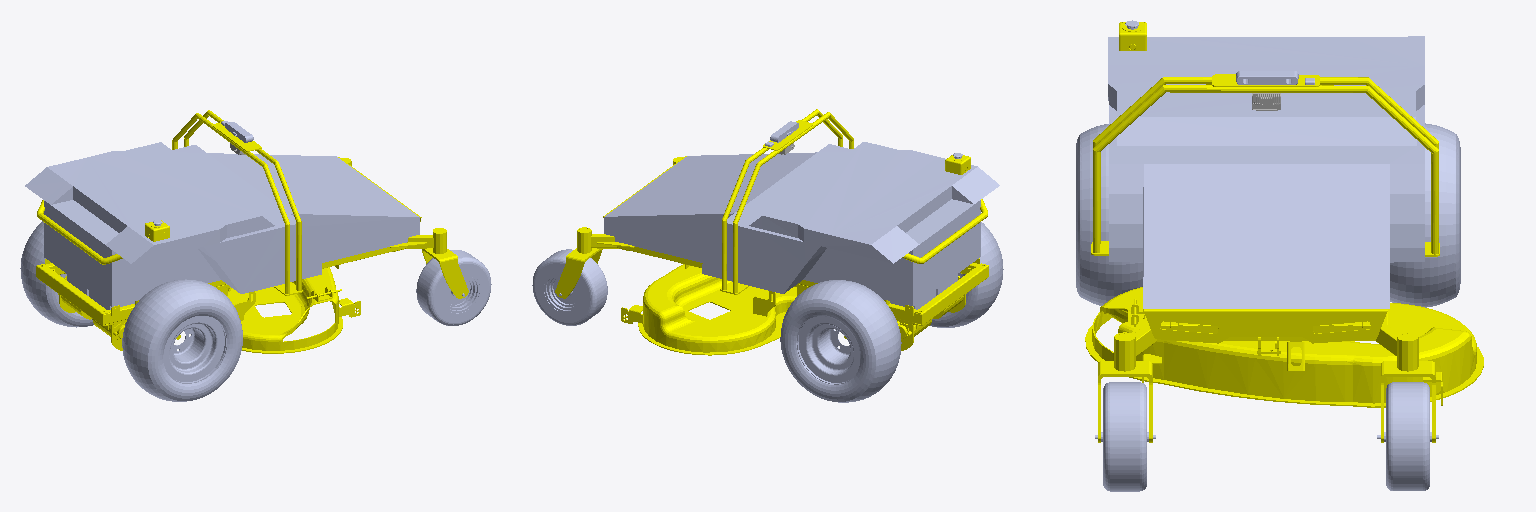
--- Render facts (derived) ---
3 views of the same robot in one strip: view 1: azimuth 30°, elevation 25°; view 2: azimuth 150°, elevation 25°; view 3: azimuth 270°, elevation 25° (orthographic).
Robot: engix — 24 links, 23 joints (7 continuous, 16 fixed); root link base_link; default pose: all joints at 0.
Links seen in each view (by area): view 1: cover, rwheel, base_link, deck, caster_wheel_right, lwheel, caster_right; view 2: cover, lwheel, deck, base_link, caster_wheel_left, rwheel, caster_left; view 3: cover, deck, base_link, lwheel, rwheel, caster_wheel_right, caster_wheel_left, caster_right, caster_left, zed.
Link boxes in pixels (left/top/right/bottom): cover: left=25, top=142, right=419, bottom=306; rwheel: left=122, top=279, right=242, bottom=401; base_link: left=36, top=110, right=446, bottom=350; deck: left=227, top=267, right=360, bottom=353; caster_wheel_right: left=416, top=250, right=491, bottom=325; lwheel: left=20, top=221, right=93, bottom=327; caster_right: left=422, top=229, right=468, bottom=298; cover: left=604, top=142, right=999, bottom=305; lwheel: left=780, top=280, right=901, bottom=402; deck: left=621, top=264, right=796, bottom=355; base_link: left=577, top=109, right=988, bottom=350; caster_wheel_left: left=532, top=249, right=607, bottom=325; rwheel: left=930, top=222, right=1003, bottom=327; caster_left: left=555, top=228, right=602, bottom=298; cover: left=1108, top=36, right=1424, bottom=308; deck: left=1085, top=287, right=1483, bottom=407; base_link: left=1091, top=22, right=1439, bottom=371; lwheel: left=1390, top=123, right=1460, bottom=307; rwheel: left=1076, top=124, right=1142, bottom=305; caster_wheel_right: left=1095, top=382, right=1155, bottom=491; caster_wheel_left: left=1377, top=382, right=1438, bottom=490; caster_right: left=1098, top=334, right=1152, bottom=442; caster_left: left=1381, top=334, right=1435, bottom=442; zed: left=1236, top=71, right=1298, bottom=84.
Size in the robot's own frame: 1.76 by 1.14 by 0.9351 metres.
14 mesh visuals loaded from 14 distinct referenced files (14 binary STL).

robot.urdf — engix:
<?xml version="1.0" encoding="utf-8"?>
<!-- This URDF was automatically created by SolidWorks to URDF Exporter! Originally created by Stephen Brawner ([email redacted]) 
     Commit Version: 1.6.0-4-g7f85cfe  Build Version: 1.6.7995.38578
     For more information, please see http://wiki.ros.org/sw_urdf_exporter -->
<robot
  name="engix">

  <transmission name="left_wheel_tran">
    <type>transmission_interface/SimpleTransmission</type>
    <joint name="left_wheel_joint">
      <hardwareInterface>hardware_interface/VelocityJointInterface</hardwareInterface>
    </joint>
    <actuator name="left_wheel_actr">
      <hardwareInterface>hardware_interface/VelocityJointInterface</hardwareInterface>
      <mechanicalReduction>1</mechanicalReduction>
    </actuator>
  </transmission>
  <transmission name="right_wheel_tran">
    <type>transmission_interface/SimpleTransmission</type>
    <joint name="right_wheel_joint">
      <hardwareInterface>hardware_interface/VelocityJointInterface</hardwareInterface>
    </joint>
    <actuator name="right_wheel_actr">
      <hardwareInterface>hardware_interface/VelocityJointInterface</hardwareInterface>
      <mechanicalReduction>1</mechanicalReduction>
    </actuator>
  </transmission>
  <gazebo>
    <plugin name="differential_drive_controller" filename="libgazebo_ros_diff_drive.so">
      <robotNamespace>/</robotNamespace>
      <legacyMode>true</legacyMode>
      <alwaysOn>true</alwaysOn>
      <publishWheelTF>false</publishWheelTF>
      <publishTf>1</publishTf>
      <publishOdomTF>true</publishOdomTF>
      <publishWheelJointState>true</publishWheelJointState>
      <updateRate>100.0</updateRate>
      <leftJoint>left_wheel_joint</leftJoint>
      <rightJoint>right_wheel_joint</rightJoint>
      <wheelSeparation>1.2</wheelSeparation>
      <wheelDiameter>0.42</wheelDiameter>
      <wheelAcceleration>1.0</wheelAcceleration>
      <wheelTorque>10</wheelTorque>
      <commandTopic>cmd_vel</commandTopic>
      <odometryTopic>odom</odometryTopic>
      <odometryFrame>odom</odometryFrame>
      <robotBaseFrame>base_link</robotBaseFrame>
      <odometrySource>world</odometrySource>
      <rosDebugLevel>na</rosDebugLevel>
    </plugin>
  </gazebo>


  <gazebo>
    <plugin name="p3d_base_controller" filename="libgazebo_ros_p3d.so">
      <alwaysOn>true</alwaysOn>
      <updateRate>50.0</updateRate>
      <bodyName>base_link</bodyName>
      <topicName>ground_truth/state</topicName>
      <gaussianNoise>0.01</gaussianNoise>
      <frameName>world</frameName>
      <xyzOffsets>0 0 0</xyzOffsets>
      <rpyOffsets>0 0 0</rpyOffsets>
    </plugin>
  </gazebo>

  <gazebo reference="laser">
    <sensor name="laser" type="ray" >
      <pose>0 0 0 0 0 0</pose>
      <visualize>false</visualize>
      <update_rate>20</update_rate>
      <ray>
        <scan>
          <horizontal>
            <samples>320</samples>
            <resolution>1</resolution>
            <min_angle>-0.66</min_angle>
            <max_angle>0.66</max_angle>
          </horizontal>
          <vertical>
            <samples>24</samples>
            <resolution>1</resolution>
            <min_angle>-0.045</min_angle>
            <max_angle>0.045</max_angle>
          </vertical>
        </scan>
        <range>
          <min>0.1</min>
          <max>4.0</max>
          <resolution>0.01</resolution>
        </range>
        <noise>
          <type>gaussian</type>
          <mean>0.0</mean>
          <stddev>0.01</stddev>
        </noise>
      </ray>
      <plugin name="gazebo_ros_laser_controller" filename="libgazebo_ros_velodyne_laser.so">
        <robotNamespace>/</robotNamespace>
        <topicName>ce30c_output</topicName>
        <frameName>ce30c_lidar</frameName>
      </plugin>
    </sensor>
  </gazebo>
  <gazebo reference="imu_link">
    <plugin filename="libgazebo_ros_imu.so" name="gazebo_imu_plugin">
      <robotNamespace>/</robotNamespace>
      <topicName>imu/data</topicName>
      <serviceName>imu_service</serviceName>
      <bodyName>base_link</bodyName>
      <gaussianNoise>0</gaussianNoise>
      <rpyOffsets>0 0 0</rpyOffsets>
      <updateRate>20.0</updateRate>
      <alwaysOn>true</alwaysOn>
    </plugin>
  </gazebo>
  <gazebo>
    <plugin filename="libhector_gazebo_ros_gps.so" name="gps_controller">
      <robotNamespace>/</robotNamespace>
      <updateRate>40</updateRate>
      <bodyName>base_link</bodyName>
      <frameId>base_link</frameId>
      <topicName>navsat/fix</topicName>
      <velocityTopicName>navsat/vel</velocityTopicName>
      <referenceLatitude>49.9</referenceLatitude>
      <referenceLongitude>8.9</referenceLongitude>
      <referenceHeading>0</referenceHeading>
      <referenceAltitude>0</referenceAltitude>
      <drift>0.0001 0.0001 0.0001</drift>
    </plugin>
  </gazebo>
  <gazebo reference="ultrasound_center">
    <sensor type="ray" name="ultrasound_center">
      <always_on>true</always_on>
      <update_rate>20</update_rate>
      <pose>0 0 0 0 0 0</pose>
      <visualize>true</visualize>
      <ray>
        <scan>
          <horizontal>
            <samples>10</samples>
            <resolution>1</resolution>
            <min_angle>-0.14835</min_angle>
            <max_angle>0.14835</max_angle>
          </horizontal>
          <vertical>
            <samples>10</samples>
            <resolution>1</resolution>
            <min_angle>-0.14835</min_angle>
            <max_angle>0.14835</max_angle>
          </vertical>
        </scan>
        <range>
          <min>0.02</min>
          <max>3</max>
          <resolution>0.02</resolution>
        </range>
      </ray>

      <plugin name="gazebo_ros_sonar_controller" filename="libhector_gazebo_ros_sonar.so">
        <gaussianNoise>0.005</gaussianNoise>
        <topicName>ultrasound_center</topicName>
        <frameId>ultrasound_center</frameId>
      </plugin>
    </sensor>
  </gazebo>


  <gazebo reference="ultrasound_left_top">
    <sensor type="ray" name="ultrasound_left_top">
      <always_on>true</always_on>
      <update_rate>20</update_rate>
      <pose>0 0 0 0 0 0</pose>
      <visualize>true</visualize>
      <ray>
        <scan>
          <horizontal>
            <samples>10</samples>
            <resolution>1</resolution>
            <min_angle>-0.14835</min_angle>
            <max_angle>0.14835</max_angle>
          </horizontal>
          <vertical>
            <samples>10</samples>
            <resolution>1</resolution>
            <min_angle>-0.14835</min_angle>
            <max_angle>0.14835</max_angle>
          </vertical>
        </scan>
        <range>
          <min>0.02</min>
          <max>3</max>
          <resolution>0.02</resolution>
        </range>
      </ray>

      <plugin name="gazebo_ros_sonar_controller" filename="libhector_gazebo_ros_sonar.so">
        <gaussianNoise>0.005</gaussianNoise>
        <topicName>ultrasound_left_top</topicName>
        <frameId>ultrasound_left_top</frameId>
      </plugin>
    </sensor>
  </gazebo>
  <gazebo reference="ultrasound_right_top">
    <sensor type="ray" name="ultrasound_right_top">
      <always_on>true</always_on>
      <update_rate>20</update_rate>
      <pose>0 0 0 0 0 0</pose>
      <visualize>true</visualize>
      <ray>
        <scan>
          <horizontal>
            <samples>10</samples>
            <resolution>1</resolution>
            <min_angle>-0.14835</min_angle>
            <max_angle>0.14835</max_angle>
          </horizontal>
          <vertical>
            <samples>10</samples>
            <resolution>1</resolution>
            <min_angle>-0.14835</min_angle>
            <max_angle>0.14835</max_angle>
          </vertical>
        </scan>
        <range>
          <min>0.02</min>
          <max>3</max>
          <resolution>0.02</resolution>
        </range>
      </ray>

      <plugin name="gazebo_ros_sonar_controller" filename="libhector_gazebo_ros_sonar.so">
        <gaussianNoise>0.005</gaussianNoise>
        <topicName>ultrasound_right_top</topicName>
        <frameId>ultrasound_right_top</frameId>
      </plugin>
    </sensor>
  </gazebo>

  <gazebo reference="ultrasound_left_back">
    <sensor type="ray" name="ultrasound_left_back">
      <always_on>true</always_on>
      <update_rate>20</update_rate>
      <pose>0 0 0 0 0 0</pose>
      <visualize>true</visualize>
      <ray>
        <scan>
          <horizontal>
            <samples>10</samples>
            <resolution>1</resolution>
            <min_angle>-0.14835</min_angle>
            <max_angle>0.14835</max_angle>
          </horizontal>
          <vertical>
            <samples>10</samples>
            <resolution>1</resolution>
            <min_angle>-0.14835</min_angle>
            <max_angle>0.14835</max_angle>
          </vertical>
        </scan>
        <range>
          <min>0.02</min>
          <max>3</max>
          <resolution>0.02</resolution>
        </range>
      </ray>

      <plugin name="gazebo_ros_sonar_controller" filename="libhector_gazebo_ros_sonar.so">
        <gaussianNoise>0.005</gaussianNoise>
        <topicName>ultrasound_left_back</topicName>
        <frameId>ultrasound_left_back</frameId>
      </plugin>
    </sensor>
  </gazebo>
  <gazebo reference="ultrasound_right_back">
    <sensor type="ray" name="ultrasound_right_back">
      <always_on>true</always_on>
      <update_rate>20</update_rate>
      <pose>0 0 0 0 0 0</pose>
      <visualize>true</visualize>
      <ray>
        <scan>
          <horizontal>
            <samples>10</samples>
            <resolution>1</resolution>
            <min_angle>-0.14835</min_angle>
            <max_angle>0.14835</max_angle>
          </horizontal>
          <vertical>
            <samples>10</samples>
            <resolution>1</resolution>
            <min_angle>-0.14835</min_angle>
            <max_angle>0.14835</max_angle>
          </vertical>
        </scan>
        <range>
          <min>0.02</min>
          <max>3</max>
          <resolution>0.02</resolution>
        </range>
      </ray>

      <plugin name="gazebo_ros_sonar_controller" filename="libhector_gazebo_ros_sonar.so">
        <gaussianNoise>0.005</gaussianNoise>
        <topicName>ultrasound_right_back</topicName>
        <frameId>ultrasound_right_back</frameId>
      </plugin>
    </sensor>
  </gazebo>

  <gazebo reference="ultrasound_left_back_back">
    <sensor type="ray" name="ultrasound_left_back_back">
      <always_on>true</always_on>
      <update_rate>20</update_rate>
      <pose>0 0 0 0 0 0</pose>
      <visualize>true</visualize>
      <ray>
        <scan>
          <horizontal>
            <samples>10</samples>
            <resolution>1</resolution>
            <min_angle>-0.14835</min_angle>
            <max_angle>0.14835</max_angle>
          </horizontal>
          <vertical>
            <samples>10</samples>
            <resolution>1</resolution>
            <min_angle>-0.14835</min_angle>
            <max_angle>0.14835</max_angle>
          </vertical>
        </scan>
        <range>
          <min>0.02</min>
          <max>3</max>
          <resolution>0.02</resolution>
        </range>
      </ray>

      <plugin name="gazebo_ros_sonar_controller" filename="libhector_gazebo_ros_sonar.so">
        <gaussianNoise>0.005</gaussianNoise>
        <topicName>ultrasound_left_back_back</topicName>
        <frameId>ultrasound_left_back_back</frameId>
      </plugin>
    </sensor>
  </gazebo>

  <gazebo reference="ultrasound_right_back_back">
    <sensor type="ray" name="ultrasound_right_back_back">
      <always_on>true</always_on>
      <update_rate>20</update_rate>
      <pose>0 0 0 0 0 0</pose>
      <visualize>true</visualize>
      <ray>
        <scan>
          <horizontal>
            <samples>10</samples>
            <resolution>1</resolution>
            <min_angle>-0.14835</min_angle>
            <max_angle>0.14835</max_angle>
          </horizontal>
          <vertical>
            <samples>10</samples>
            <resolution>1</resolution>
            <min_angle>-0.14835</min_angle>
            <max_angle>0.14835</max_angle>
          </vertical>
        </scan>
        <range>
          <min>0.02</min>
          <max>3</max>
          <resolution>0.02</resolution>
        </range>
      </ray>

      <plugin name="gazebo_ros_sonar_controller" filename="libhector_gazebo_ros_sonar.so">
        <gaussianNoise>0.005</gaussianNoise>
        <topicName>ultrasound_right_back_back</topicName>
        <frameId>ultrasound_right_back_back</frameId>
      </plugin>
    </sensor>
  </gazebo>

  <!-- <link name="base_footprint"/>
  <joint name="base_footprint_joint" type="fixed">
    <origin rpy="0 0 0" xyz="0 0 0"/>
    <parent link="base_link"/>
    <child link="base_footprint"/>
  </joint> -->
  <link name="inertial_link">
    <inertial>
      <mass value="10"/>
      <origin xyz="0.0005263550102558459 -0.0008435206011111315 0.2088531479687758"/>
      <inertia ixx="0.298693" ixy="0.003154" ixz="-0.020052" iyy="0.45471" iyz="0.003425" izz="0.326894"/>
    </inertial>
  </link>
  <joint name="inertial_joint" type="fixed">
    <origin rpy="0 0 0" xyz="0 0 0"/>
    <parent link="base_link"/>
    <child link="inertial_link"/>
  </joint>

  <link name="base_link">
    <!-- <inertial>
      <origin
        xyz="0,[number redacted] 0.00526150593338467 0.0527030720786924"
        rpy="0 0 0" />
      <mass
        value="13.9193807318929" />
      <inertia
        ixx="0.283104751456096"
        ixy="-9.17169868644118E-05"
        ixz="-0.0303686361911287"
        iyy="0.694211916770157"
        iyz="5.31670879227359E-05"
        izz="0.933125038601792" />
    </inertial> -->
    <visual>
      <origin
        xyz="-0.162028179738504 -0.00526150593338467 0.019"
        rpy="0 0 3.1416" />
      <geometry>
        <mesh
          filename="package://engix_description/meshes/base_link.STL" />
      </geometry>
      <material
        name="">
        <color
          rgba="1 1 0 1" />
      </material>
    </visual>
    <collision>
      <origin
        xyz="0 0 0"
        rpy="0 0 0" />
      <geometry>
        <mesh
          filename="package://engix_description/meshes/base_link.STL" />
      </geometry>
    </collision>
  </link>
  <link name="lwheel">
    <inertial>
      <mass value="4.637" />
      <origin xyz="0 0 0" />
      <inertia  ixx="0.02467" ixy="0" ixz="0" iyy="0.04411" iyz="0" izz="0.02467" />
    </inertial>
    <visual>
      <origin
        xyz="0 0 0"
        rpy="0 0 0" />
      <geometry>
        <mesh
          filename="package://engix_description/meshes/lwheel.STL" />
      </geometry>
      <material
        name="">
        <color
          rgba="0.792156862745098 0.819607843137255 0.933333333333333 1" />
      </material>
    </visual>
    <collision>
      <origin
        xyz="0 0 0"
        rpy="0 0 0" />
      <geometry>
        <mesh
          filename="package://engix_description/meshes/lwheel.STL" />
      </geometry>
    </collision>
  </link>
  <joint name="left_wheel_joint" type="continuous">
    <origin
      xyz="-0.59511 0.42022 -0.11179"
      rpy="0 0 0" />
    <parent
      link="base_link" />
    <child
      link="lwheel" />
    <axis
      xyz="0 1 -1.3832E-05" />
  </joint>
    <link name="stop">
    <!-- <inertial>
      <origin
        xyz="8.01438915232211E-11 -7.29305504876265E-12 0.0138238205727138"
        rpy="0 0 0" />
      <mass
        value="0.0281984480696176" />
      <inertia
        ixx="6.72540159939615E-06"
        ixy="3.7259864948733E-11"
        ixz="-2.12799667393466E-14"
        iyy="6.72201404961766E-06"
        iyz="1.93646720152684E-15"
        izz="3.40059228920416E-06" />
    </inertial> -->
    <visual>
      <origin
        xyz="0 0 0"
        rpy="0 0 0" />
      <geometry>
        <mesh
          filename="package://engix_description/meshes/stop.STL" />
      </geometry>
      <material
        name="">
        <color
          rgba="0.792156862745098 0.819607843137255 0.933333333333333 1" />
      </material>
    </visual>
    <collision>
      <origin
        xyz="0 0 0"
        rpy="0 0 0" />
      <geometry>
        <mesh
          filename="package://engix_description/meshes/stop.STL" />
      </geometry>
    </collision>
  </link>
  <joint name="stop_joint"
    type="fixed">
    <origin
      xyz="-0.69 -0.37937 0.40441"
      rpy="0 0 0" />
    <parent
      link="base_link" />
    <child
      link="stop" />
    <axis
      xyz="0 0 0" />
  </joint>
  <link name="cover">
    <!-- <inertial>
      <origin
        xyz="-0.551441504533107 -0.0126564496319977 -0.0946936917411068"
        rpy="0 0 0" />
      <mass
        value="639.55152495748" />
      <inertia
        ixx="121.128020945133"
        ixy="2.23693263942331"
        ixz="-1.57368041967364"
        iyy="43.5974122594775"
        iyz="-0.0340743547938204"
        izz="138.576050287635" />
    </inertial> -->
    <inertial>
      <origin
        xyz="-0.162028179738504 -0.00526150593338467 0.019"
        rpy="0 0 3.1416" />
      <mass
        value="0.1" />
      <inertia
        ixx="0.001"
        ixy="0.001"
        ixz="0.001"
        iyy="0.001"
        iyz="0.001"
        izz="0.001" />
    </inertial>
    <visual>
      <origin
        xyz="-0.162028179738504 -0.00526150593338467 0.019"
        rpy="0 0 3.1416" />
      <geometry>
        <mesh
          filename="package://engix_description/meshes/cover.STL" />
      </geometry>
      <material
        name="">
        <color
          rgba="0.792156862745098 0.819607843137255 0.933333333333333 1" />
      </material>
    </visual>
    <collision>
      <origin
        xyz="0 0 0"
        rpy="0 0 0" />
      <geometry>
        <mesh
          filename="package://engix_description/meshes/cover.STL" />
      </geometry>
    </collision>
  </link>
  <joint
    name="cover_joint"
    type="fixed">
    <origin
      xyz="-0.162 -0.0044742 -0.016717"
      rpy="0 0 3.1416" />
    <parent
      link="base_link" />
    <child
      link="cover" />
    <axis
      xyz="0 0 0" />
  </joint>
  <link name="rwheel">
    <inertial>
    <mass value="4.637" />
    <origin xyz="0 0 0" />
    <inertia  ixx="0.02467" ixy="0" ixz="0" iyy="0.04411" iyz="0" izz="0.02467" />
    </inertial>
    <visual>
      <origin
        xyz="0 0 0"
        rpy="0 0 0" />
      <geometry>
        <mesh
          filename="package://engix_description/meshes/rwheel.STL" />
      </geometry>
      <material
        name="">
        <color
          rgba="0.792156862745098 0.819607843137255 0.933333333333333 1" />
      </material>
    </visual>
    <collision>
      <origin
        xyz="0 0 0"
        rpy="0 0 0" />
      <geometry>
        <mesh
          filename="package://engix_description/meshes/rwheel.STL" />
      </geometry>
    </collision>
  </link>
  <joint name="right_wheel_joint" type="continuous">
    <origin
      xyz="-0.59511 -0.42022 -0.11179"
      rpy="0 0 0" />
    <parent
      link="base_link" />
    <child
      link="rwheel" />
    <axis
      xyz="0 1 -1.3832E-05" />
  </joint>
  
  <link name="axel_center"/>
  <joint name="axel_center_joint" type="continuous">
    <origin
      xyz="-0.59511 0 -0.11179"
      rpy="0 0 0" />
    <parent
      link="base_link" />
    <child
      link="axel_center" />
    <!-- <axis
      xyz="0 1 -1.3832E-05" /> -->
  </joint>

  <link name="caster_left">
    <inertial>
      <origin
        xyz="0.0136666051162592 5.81740895955196E-07 -0.128816257273344"
        rpy="0 0 0" />
      <mass
        value="1.0" />
      <inertia
        ixx="0.00442216870785303"
        ixy="-1.28985529609481E-08"
        ixz="0.000703041039067919"
        iyy="0.00329065457320726"
        iyz="0.10495869480082E-08"
        izz="0.00197684777439707" />
    </inertial>
    <visual>
      <origin
        xyz="0 0 0"
        rpy="0 0 0" />
      <geometry>
        <mesh
          filename="package://engix_description/meshes/caster_left.STL" />
      </geometry>
      <material
        name="">
        <color
          rgba="1 1 0 1" />
      </material>
    </visual>
    <collision>
      <origin
        xyz="0 0 0"
        rpy="0 0 0" />
      <geometry>
        <mesh
          filename="package://engix_description/meshes/caster_left.STL" />
      </geometry>
    </collision>
  </link>
  <joint name="caster_left_joint" type="continuous">
    <origin
      xyz="0.643 0.39037 0.091717"
      rpy="0 0 0" />
    <parent
      link="base_link" />
    <child
      link="caster_left" />
    <axis
      xyz="0 0 1" />
  </joint>
  <link name="caster_right">
    <inertial>
      <origin
        xyz="0.0136666051162589 5.81740895344574E-07 -0.128816257273344"
        rpy="0 0 0" />
      <mass
        value="1.0" />
      <inertia
        ixx="0.00442216870785306"
        ixy="-1.28985529604838E-08"
        ixz="0.000703041039067914"
        iyy="0.00329065457320729"
        iyz="0.10495869258973E-08"
        izz="0.00197684777439707" />
    </inertial>
    <visual>
      <origin
        xyz="0 0 0"
        rpy="0 0 0" />
      <geometry>
        <mesh
          filename="package://engix_description/meshes/caster_right.STL" />
      </geometry>
      <material
        name="">
        <color
          rgba="1 1 0 1" />
      </material>
    </visual>
    <collision>
      <origin
        xyz="0 0 0"
        rpy="0 0 0" />
      <geometry>
        <mesh
          filename="package://engix_description/meshes/caster_right.STL" />
      </geometry>
    </collision>
  </link>
  <joint name="caster_right_joint" type="continuous">
    <origin
      xyz="0.643 -0.39932 0.091717"
      rpy="0 0 0" />
    <parent
      link="base_link" />
    <child
      link="caster_right" />
    <axis
      xyz="0 0 1" />
  </joint>
  <link name="caster_wheel_left">
    <inertial>
      <origin
        xyz="-2.22044604925031E-16 1.66533453693773E-16 8.32667268468867E-17"
        rpy="0 0 0" />
      <mass
        value="1.0" />
      <inertia
        ixx="0.00672051631359307"
        ixy="0.43365000061373E-19"
        ixz="-1.91929731178655E-17"
        iyy="0.0102859795840278"
        iyz="0.58886559456232E-19"
        izz="0.00672051631359308" />
    </inertial>
    <visual>
      <origin
        xyz="0 0 0"
        rpy="0 0 0" />
      <geometry>
        <mesh
          filename="package://engix_description/meshes/caster_wheel_left.STL" />
      </geometry>
      <material
        name="">
        <color
          rgba="0.792156862745098 0.819607843137255 0.933333333333333 1" />
      </material>
    </visual>
    <collision>
      <origin
        xyz="0 0 0"
        rpy="0 0 0" />
      <geometry>
        <mesh
          filename="package://engix_description/meshes/caster_wheel_left.STL" />
      </geometry>
    </collision>
  </link>
  <joint name="caster_wheel_left_joint" type="continuous">
    <origin
      xyz="0.067678 0 -0.27618"
      rpy="0 0 0" />
    <parent
      link="caster_left" />
    <child
      link="caster_wheel_left" />
    <axis
      xyz="0 1 0" />
  </joint>
  <link name="caster_wheel_right">
    <inertial>
      <origin
        xyz="1.11022302462516E-16 2.22044604925031E-16 1.11022302462516E-16"
        rpy="0 0 0" />
      <mass
        value="1.0" />
      <inertia
        ixx="0.00672051631359309"
        ixy="0.2732333861913E-19"
        ixz="0.08185551320853E-18"
        iyy="0.0102859795840278"
        iyz="0.39195968546971E-18"
        izz="0.00672051631359309" />
    </inertial>
    <visual>
      <origin
        xyz="0 0 0"
        rpy="0 0 0" />
      <geometry>
        <mesh
          filename="package://engix_description/meshes/caster_wheel_right.STL" />
      </geometry>
      <material
        name="">
        <color
          rgba="0.792156862745098 0.819607843137255 0.933333333333333 1" />
      </material>
    </visual>
    <collision>
      <origin
        xyz="0 0 0"
        rpy="0 0 0" />
      <geometry>
        <mesh
          filename="package://engix_description/meshes/caster_wheel_right.STL" />
      </geometry>
    </collision>
  </link>
  <joint name="caster_wheel_right_joint" type="continuous">
    <origin
      xyz="0.067678 0 -0.27618"
      rpy="0 0 0" />
    <parent
      link="caster_right" />
    <child
      link="caster_wheel_right" />
    <axis
      xyz="0 1 0" />
  </joint>


  <link name="deck">
    <!-- <inertial>
      <origin
        xyz="0.0716595052325995 0.0547981436633182 -0.172887277173742"
        rpy="0 0 0" />
      <mass
        value="10.0" />
      <inertia
        ixx="0.353063694459244"
        ixy="-0.0622753255897354"
        ixz="-0.0130147712780993"
        iyy="0.159919200824219"
        iyz="0.000471990511557466"
        izz="0.498507564006978" />
    </inertial> -->
    <visual>
      <origin
        xyz="0 0 0"
        rpy="0 0 0" />
      <geometry>
        <mesh
          filename="package://engix_description/meshes/deck.STL" />
      </geometry>
      <material
        name="">
        <color
          rgba="1 1 0 1" />
      </material>
    </visual>
    <collision>
      <origin
        xyz="0 0 0"
        rpy="0 0 0" />
      <geometry>
        <mesh
          filename="package://engix_description/meshes/deck.STL" />
      </geometry>
    </collision>
  </link>
  <joint name="deck_joint"
    type="fixed">
    <origin
      xyz="0 0 0"
      rpy="0 0 0" />
    <parent
      link="base_link" />
    <child
      link="deck" />
    <axis
      xyz="0 0 0" />
  </joint>
  <link name="battery">
    <!-- <inertial>
      <origin
        xyz="-0.175546583916824 0.103793503480278 0.0936916020368893"
        rpy="0 0 0" />
      <mass
        value="50.0" />
      <inertia
        ixx="0.278241643155452"
        ixy="6.89616688210623E-18"
        ixz="-2.31260766468446E-17"
        iyy="0.530062199999999"
        iyz="1.12222275779455E-17"
        izz="0.587073643155452" />
    </inertial> -->
    <visual>
      <origin
        xyz="0 0 0"
        rpy="0 0 0" />
      <geometry>
        <mesh
          filename="package://engix_description/meshes/battery.STL" />
      </geometry>
      <material
        name="">
        <color
          rgba="0.792156862745098 0.819607843137255 0.933333333333333 1" />
      </material>
    </visual>
    <collision>
      <origin
        xyz="0 0 0"
        rpy="0 0 0" />
      <geometry>
        <mesh
          filename="package://engix_description/meshes/battery.STL" />
      </geometry>
    </collision>
  </link>
  <joint name="battery_joint"
    type="fixed">
    <origin
      xyz="-0.63961 -0.098618 -0.044982"
      rpy="1.5708 0 -3.1416" />
    <parent
      link="base_link" />
    <child
      link="battery" />
    <axis
      xyz="0 0 0" />
  </joint>
  <link name="zed">
    <visual>
      <origin
        xyz="0 0 0"
        rpy="0 0 0" />
      <geometry>
        <mesh
          filename="package://engix_description/meshes/zed.STL" />
      </geometry>
      <material
        name="">
        <color
          rgba="0.792156862745098 0.819607843137255 0.933333333333333 1" />
      </material>
    </visual>
    <collision>
      <origin
        xyz="0 0 0"
        rpy="0 0 0" />
      <geometry>
        <mesh
          filename="package://engix_description/meshes/zed.STL" />
      </geometry>
    </collision>
  </link>
  <joint name="zed_joint"
    type="fixed">
    <origin
      xyz="-0.064262 -0.0023649 0.54982"
      rpy="0 0 0" />
    <parent
      link="base_link" />
    <child
      link="zed" />
    <axis
      xyz="0 0 0" />
  </joint>
  <link name="laser">
    <visual>
      <origin
        xyz="0 0 0"
        rpy="0 0 0" />
      <geometry>
        <mesh
          filename="package://engix_description/meshes/laser.STL" />
      </geometry>
      <material
        name="">
        <color
          rgba="0.752941176470588 0.752941176470588 0.752941176470588 1" />
      </material>
    </visual>
    <collision>
      <origin
        xyz="0 0 0"
        rpy="0 0 0" />
      <geometry>
        <mesh
          filename="package://engix_description/meshes/laser.STL" />
      </geometry>
    </collision>
  </link>
  <joint name="laser_joint"
    type="fixed">
    <origin
      xyz="-0.056018 -0.0047765 0.48823"
      rpy="0 0 0" />
    <parent
      link="base_link" />
    <child
      link="laser" />
    <axis
      xyz="0 0 0" />
  </joint>


  <!-- <link name="ce30c_output"/>
  <joint name="ce30c_output_joint"
    type="fixed">
    <origin
      xyz="-0.056018 -0.0047765 0.48823"
      rpy="0 0 0" />
    <parent
      link="base_link" />
    <child
      link="ce30c_output" />
    <axis
      xyz="0 0 0" />
  </joint> -->


  <link name="gps">
    <visual>
      <origin
        xyz="0 0 0"
        rpy="0 0 0" />
      <geometry>
        <mesh
          filename="package://engix_description/meshes/gps.STL" />
      </geometry>
      <material
        name="">
        <color
          rgba="0.792156862745098 0.819607843137255 0.933333333333333 1" />
      </material>
    </visual>
    <collision>
      <origin
        xyz="0 0 0"
        rpy="0 0 0" />
      <geometry>
        <mesh
          filename="package://engix_description/meshes/gps.STL" />
      </geometry>
    </collision>
  </link>
  <joint name="gps_joint"
    type="fixed">
    <origin
      xyz="-0.079471 0.11632 0.54778"
      rpy="0 0 0" />
    <parent
      link="base_link" />
    <child
      link="gps" />
    <axis
      xyz="0 0 0" />
  </joint>


  <link name="ultrasound_center">
    <!-- <visual>
      <origin
        xyz="0 0 0"
        rpy="0 0 0" />
      <geometry>
        <mesh
          filename="package://engix_description/meshes/ultrasound_center.STL" />
      </geometry>
      <material
        name="">
        <color
          rgba="0.792156862745098 0.819607843137255 0.933333333333333 1" />
      </material>
    </visual> -->
    <collision>
      <origin
        xyz="0 0 0"
        rpy="0 0 0" />
      <geometry>
        <mesh
          filename="package://engix_description/meshes/ultrasound_center.STL" />
      </geometry>
    </collision>
  </link>
  <joint name="ultrasound_center_joint"
    type="fixed">
    <origin
      xyz="0.67838 -0.00040907 0.10435"
      rpy="0 0 0" />
    <parent
      link="base_link" />
    <child
      link="ultrasound_center" />
    <axis
      xyz="0 0 0" />
  </joint>
  <link name="ultrasound_left_top">
    <!-- <visual>
      <origin
        xyz="2.55208334514201E-05 0.00256991380789062 0"
        rpy="0 0 0" />
      <geometry>
        <mesh
          filename="package://engix_description/meshes/ultrasound_left_top.STL" />
      </geometry>
      <material
        name="">
        <color
          rgba="0.792156862745098 0.819607843137255 0.933333333333333 1" />
      </material>
    </visual> -->
    <!-- <collision>
      <origin
        xyz="0 0 0"
        rpy="0 0 0" />
      <geometry>
        <mesh
          filename="package://engix_description/meshes/ultrasound_left_top.STL" />
      </geometry>
    </collision> -->
  </link>
  <joint name="ultrasound_left_top_joint"
    type="fixed">
    <origin
      xyz="0.41729 0.33052 -0.0062646"
      rpy="0 0 -4.7" />
    <parent
      link="base_link" />
    <child
      link="ultrasound_left_top" />
    <axis
      xyz="0 0 0" />
  </joint>
  <link name="ultrasound_left_back">
    <!-- <visual>
      <origin
        xyz="0.00256991380789057 2.55208334514756E-05 -0.000705168155339608"
        rpy="0 0 0" />
      <geometry>
        <mesh
          filename="package://engix_description/meshes/ultrasound_left_back.STL" />
      </geometry>
      <material
        name="">
        <color
          rgba="0.792156862745098 0.819607843137255 0.933333333333333 1" />
      </material>
    </visual>
    <collision>
      <origin
        xyz="0 0 0"
        rpy="0 0 0" />
      <geometry>
        <mesh
          filename="package://engix_description/meshes/ultrasound_left_back.STL" />
      </geometry>
    </collision> -->
  </link>
  <joint name="ultrasound_left_back_joint"
    type="fixed">
    <origin
      xyz="-0.66119 0.37242 0.27466"
      rpy="0 0 -4.7" />
    <parent
      link="base_link" />
    <child
      link="ultrasound_left_back" />
    <axis
      xyz="0 0 0" />
  </joint>
  <link name="ultrasound_left_back_back">
  </link>
  <joint name="ultrasound_left_back_back_joint"
    type="fixed">
    <origin
      xyz="-0.8798 0.19399 -0.05687"
      rpy="0 0 -3.25" />
    <parent
      link="base_link" />
    <child
      link="ultrasound_left_back_back" />
    <axis
      xyz="0 0 0" />
  </joint>
  <link name="ultrasound_right_top">

  </link>
  <joint name="ultrasound_right_top_joint"
    type="fixed">
    <origin
      xyz="0.41736 -0.33598 -0.0062646"
      rpy="0 0 -1.5708" />
      <!-- rpy="0 0 1.5708" -->
    <parent
      link="base_link" />
    <child
      link="ultrasound_right_top" />
    <axis
      xyz="0 0 0" />
  </joint>
  <link name="ultrasound_right_back">
  </link>
  <joint name="ultrasound_right_back_joint"
    type="fixed">
    <origin
      xyz="-0.66113 -0.37937 0.27466"
      rpy="0 0 -1.5708" />
    <parent
      link="base_link" />
    <child
      link="ultrasound_right_back" />
    <axis
      xyz="0 0 0" />
  </joint>
  <link name="ultrasound_right_back_back">
  </link>
  <joint name="ultrasound_right_back_back_joint"
    type="fixed">
    <origin
      xyz="-0.8798 -0.20253 -0.05687"
      rpy="0 0 -3" />
    <parent
      link="base_link" />
    <child
      link="ultrasound_right_back_back" />
    <axis
      xyz="0 0 0" />
  </joint>

  <link name="imu_link"/>
  
  <joint name="imu_joint"
    type="fixed">
    <origin
      xyz="-0.064262 -0.0023649 0.54982"
      rpy="0 0 0" />
    <parent
      link="base_link" />
    <child
      link="imu_link" />
    <axis
      xyz="0 0 0" />
  </joint>

  <gazebo reference="base_link">
  <material>Gazebo/Grey</material>
  </gazebo>
  <gazebo reference="deck">
  <material>Gazebo/Yellow</material>
  </gazebo>
  <gazebo reference="caster_left">
  <material>Gazebo/Gray</material>
  </gazebo>
  <gazebo reference="caster_right">
  <material>Gazebo/Gray</material>
  </gazebo>
  <gazebo reference="caster_wheel_left">
  <material>Gazebo/Black</material>
  </gazebo>
  <gazebo reference="caster_wheel_right">
  <material>Gazebo/Black</material>
  </gazebo>
  <gazebo reference="lwheel">
    <mu1 value="1.0"/>
    <mu2 value="1.0"/>
    <kp value="10000000.0" />
    <kd value="1.0" />
    <fdir1 value="1 0 0"/>
    <material>Gazebo/Black</material>
  </gazebo>
  <gazebo reference="rwheel">
    <mu1 value="1.0"/>
    <mu2 value="1.0"/>
    <kp value="10000000.0" />
    <kd value="1.0" />
    <fdir1 value="1 0 0"/>
    <material>Gazebo/Black</material>
  </gazebo>
  <gazebo reference="zed">
    <material>Gazebo/Black</material>
  </gazebo>
  <gazebo reference="gps">
    <material>Gazebo/Red</material>
  </gazebo>
  <gazebo reference="laser">
    <material>Gazebo/Black</material>
  </gazebo>
  <gazebo reference="battery">
    <material>Gazebo/White</material>
  </gazebo>
  <gazebo reference="stop">
    <material>Gazebo/Red</material>
  </gazebo>


</robot>
